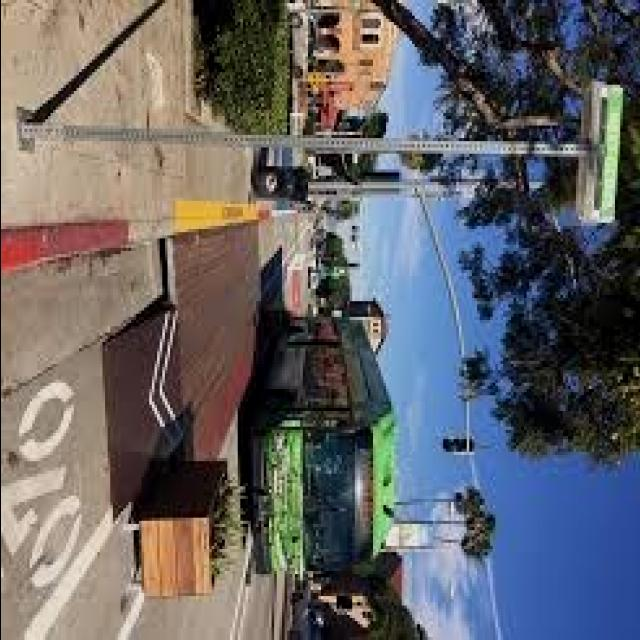bus: (237, 311, 396, 581)
